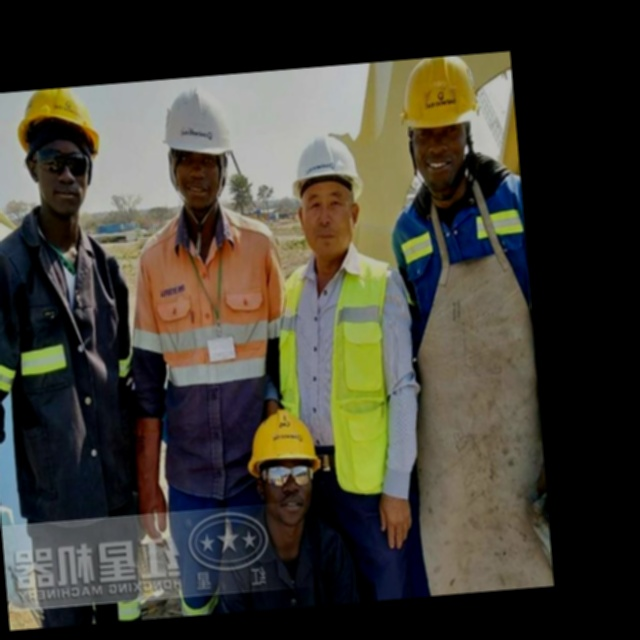Con_Casco: (160, 87, 231, 210)
Con_Chaleco: (274, 250, 406, 455)
